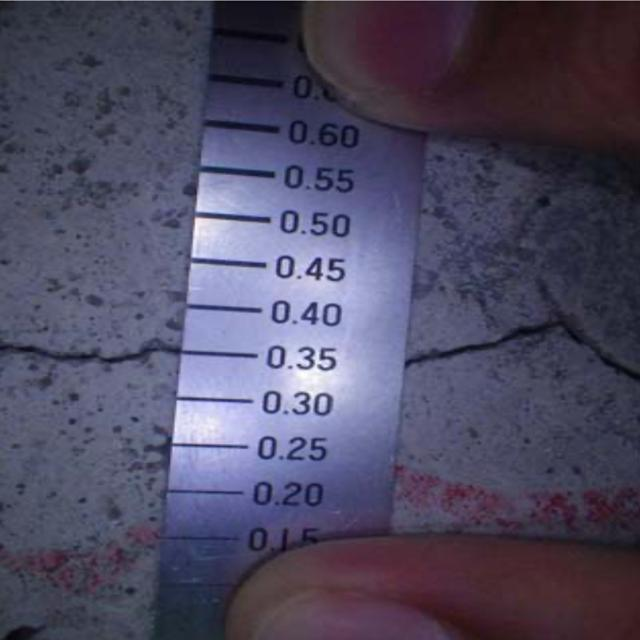crack: (409, 300, 637, 397), (3, 326, 187, 376)
